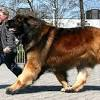dog: (4, 14, 34, 38)
